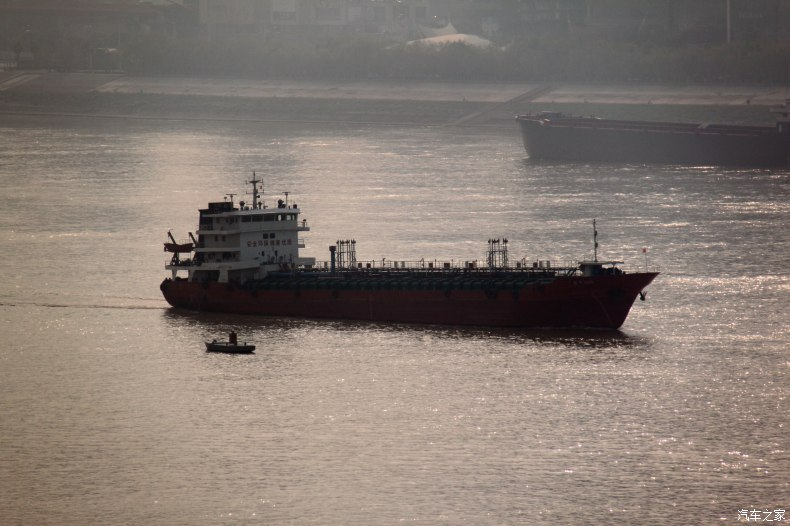Cargoship: (157, 168, 664, 338)
otherboat: (201, 329, 256, 354)
